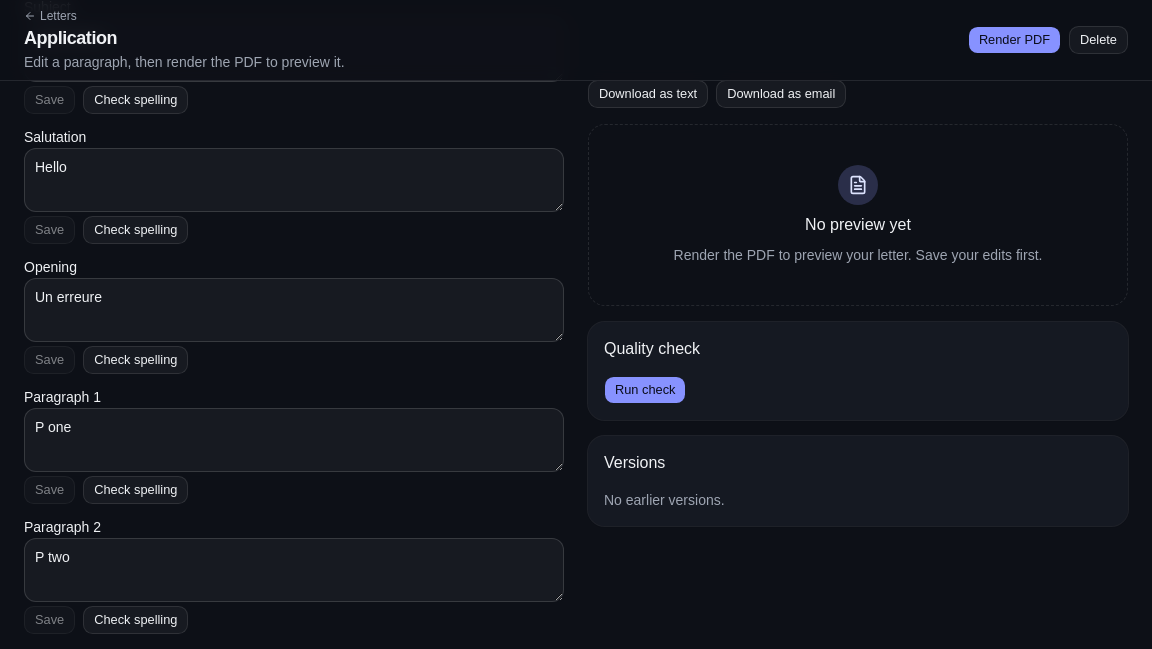
Test: spelling: ignoring the last correction says it was ignored, not that none was found
(page scrolled)
Click the button with aria-label "Check spelling of Opening".
click(136, 360)  # box [83, 346, 188, 374]
(page scrolled)
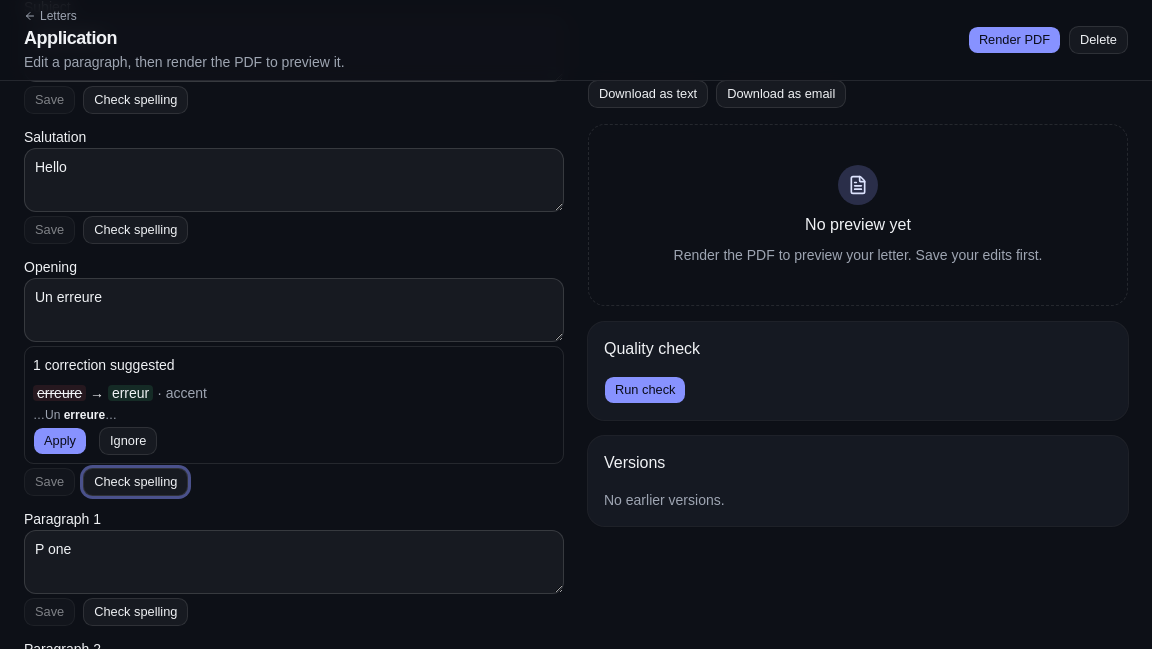
Click the button with aria-label "Ignore 1 of 1".
click(128, 441)  # box [99, 427, 157, 455]
(page scrolled)
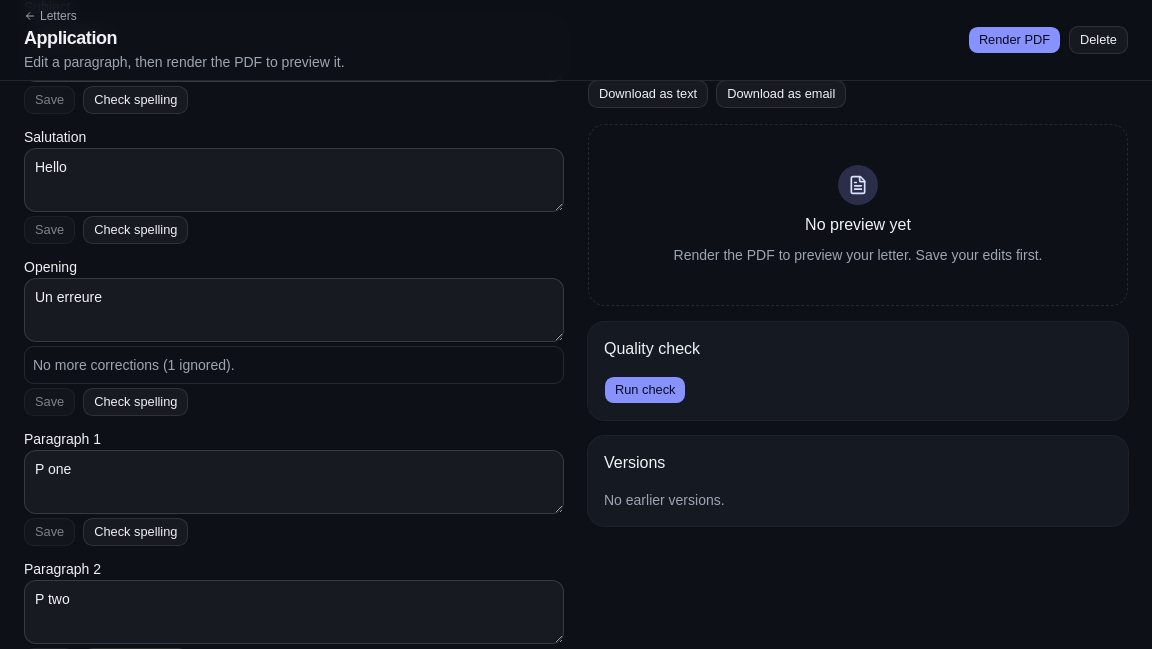
expect the text box labelled "Opening" holds "Un erreure": met, box [24, 278, 564, 342]
expect the text "No more corrections (1 ignored)." is shown: met, box [33, 357, 234, 373]
